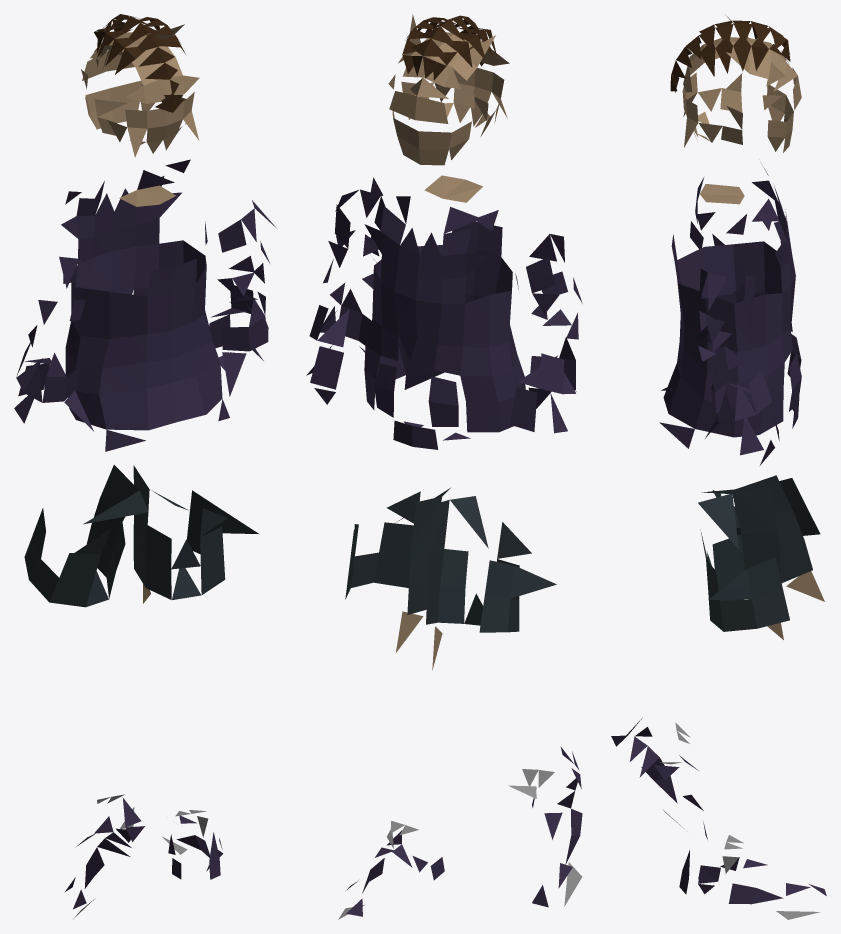
Rendered from personfar_11_w3.fbx.
3 renders of one model, left to right at view 1: azimuth 30°, elevation 25°; view 2: azimuth 150°, elevation 25°; view 3: azimuth 270°, elevation 25°, orthographic. The views are drawn at different scales.
Parts seen in each view (by area): view 1: Casual_Feet; view 2: Casual_Feet; view 3: Casual_Feet.
Boxes of the visible parts, left/top/right/bottom form: Casual_Feet: left=14, top=14, right=276, bottom=918; Casual_Feet: left=306, top=14, right=582, bottom=919; Casual_Feet: left=611, top=14, right=826, bottom=919.
Size of the model in its own units: 0.3001 by 0.999 by 0.2273.
